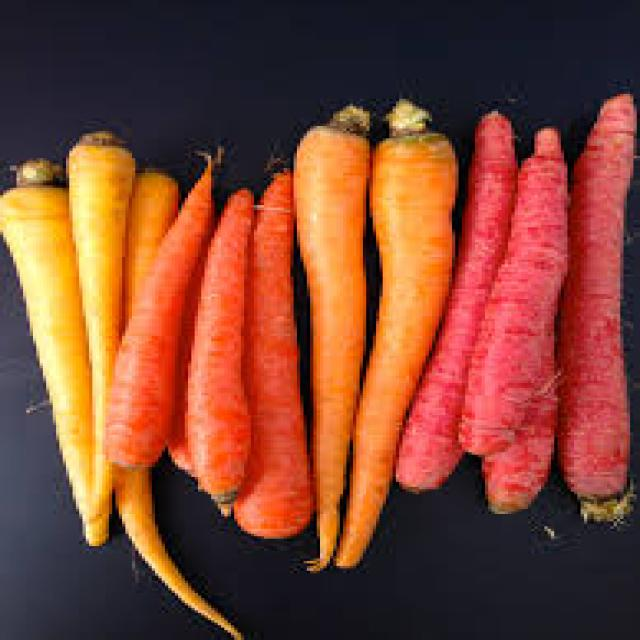Fresh_Carrot: (334, 99, 456, 568), (459, 127, 567, 456), (105, 165, 212, 467), (234, 171, 314, 538), (559, 94, 629, 499)
